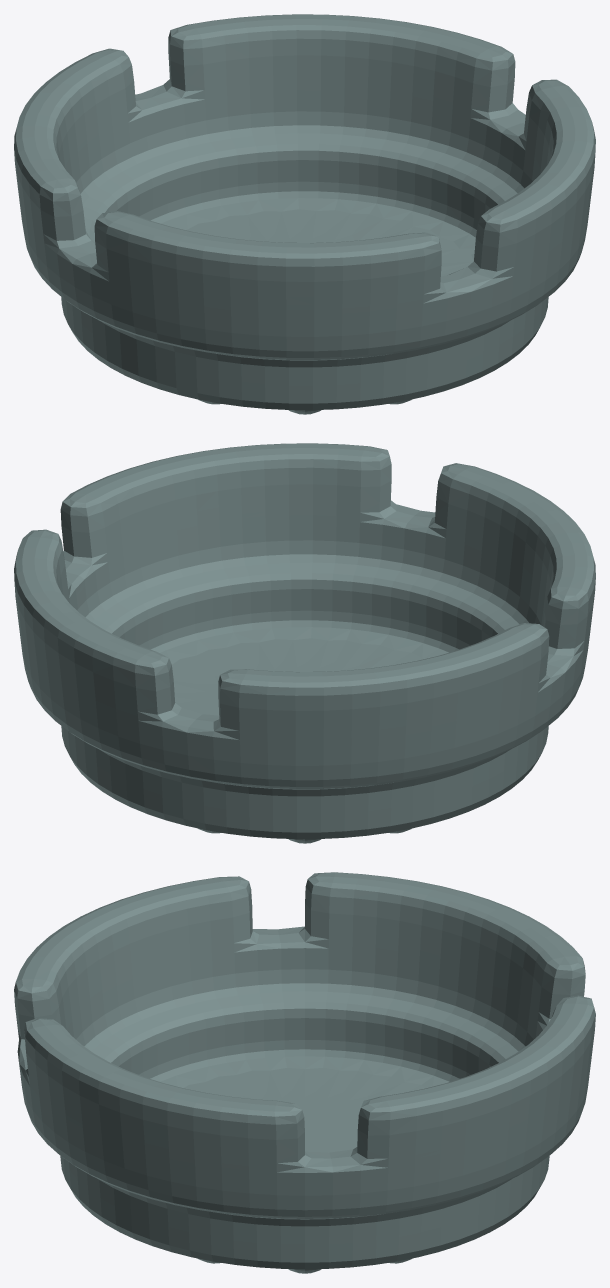
File: ashtray.obj
The picture shows the model from 3 angles, top to bottom: view 1: azimuth 30°, elevation 25°; view 2: azimuth 150°, elevation 25°; view 3: azimuth 270°, elevation 25°; orthographic projection.
Parts seen in each view (by area): view 1: glass_ashtray; view 2: glass_ashtray; view 3: glass_ashtray.
Part boxes in pixels (bbox=[...]): glass_ashtray: bbox=[14, 14, 595, 414]; glass_ashtray: bbox=[14, 443, 595, 843]; glass_ashtray: bbox=[14, 872, 595, 1273].
Bounding box in the file's own units: 0.6482 × 0.2499 × 0.6482.
